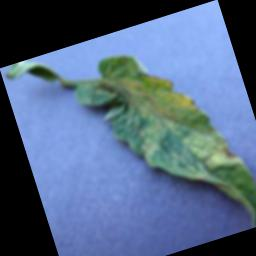Leaf_Mold: (99, 56, 206, 147), (197, 131, 245, 175)
